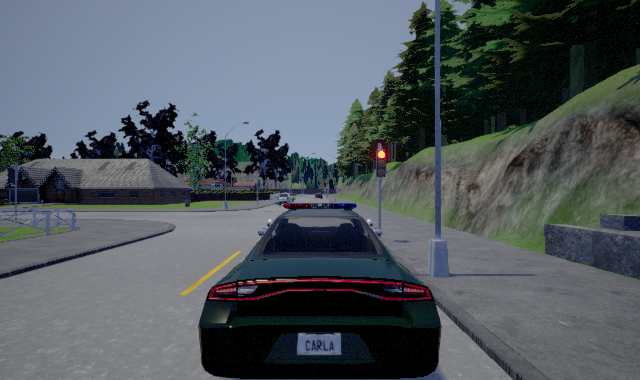traffic_light: (376, 145, 386, 183)
vehicle: (198, 193, 442, 379), (276, 192, 294, 206)
